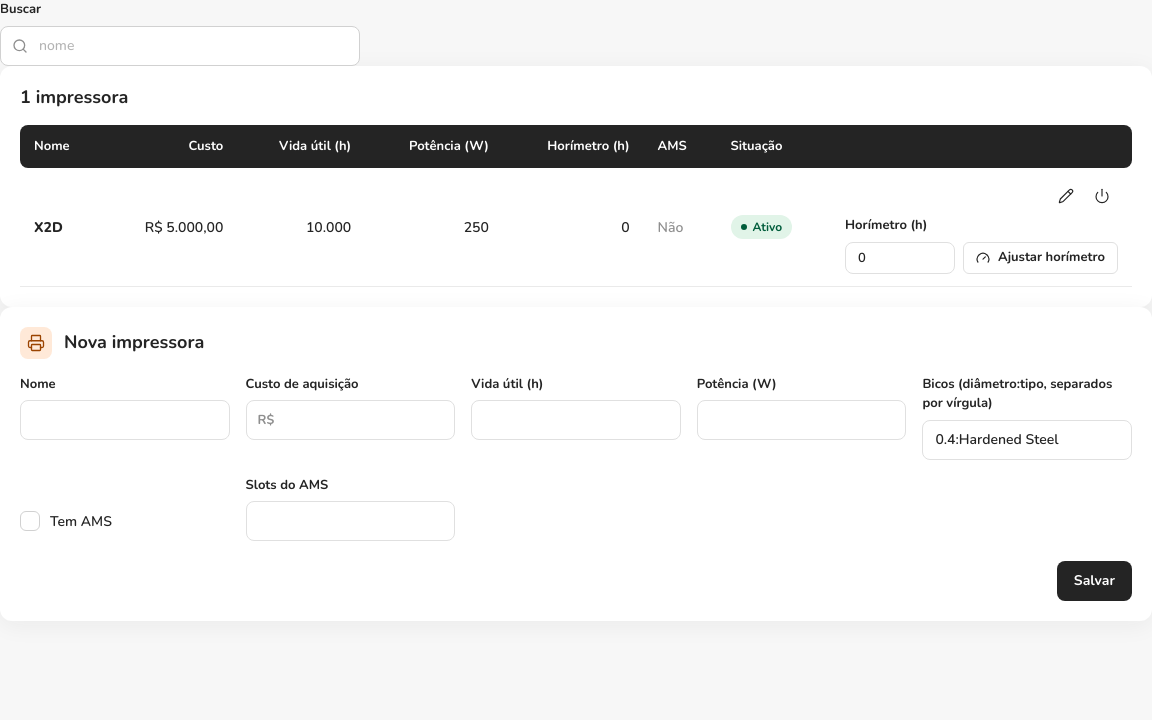
it: Printers page › confirms before deactivating
Click the button named "Desativar".
click(1102, 196)  # box x1=1086 y1=180 x2=1118 y2=212
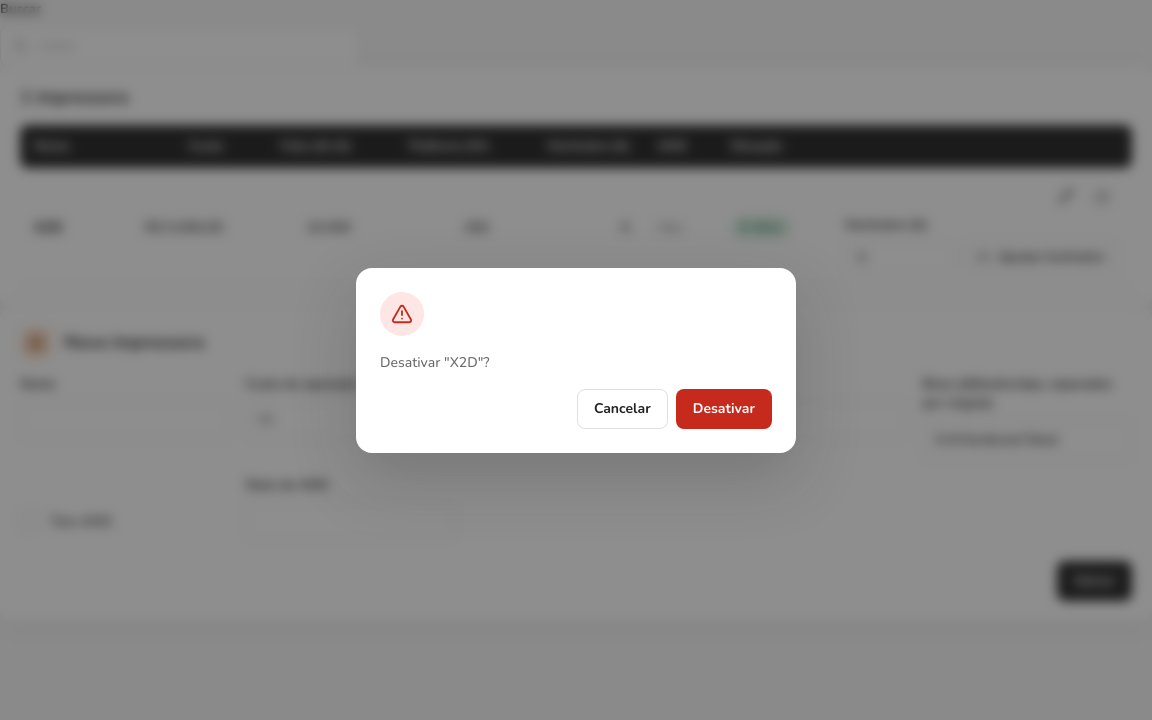
Click the button "Cancelar".
click(622, 408)  # box x1=577 y1=388 x2=668 y2=428
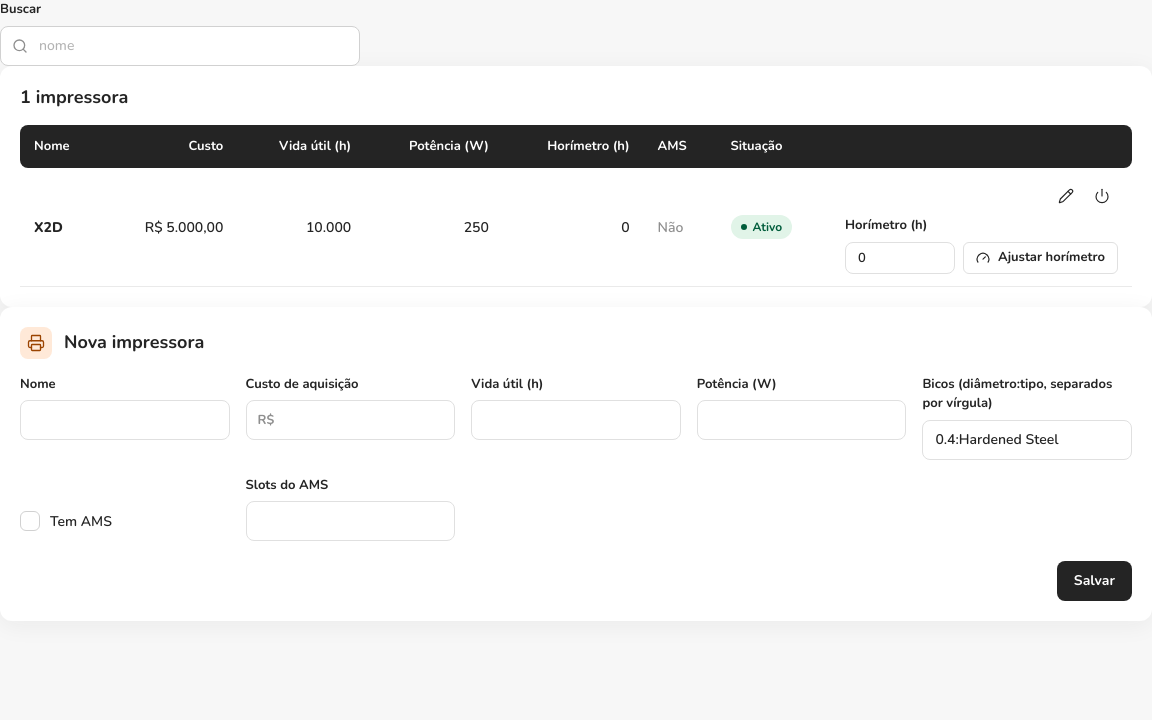
Check: the dialog is gone
Click the button named "Desativar".
click(1102, 196)  # box x1=1086 y1=180 x2=1118 y2=212
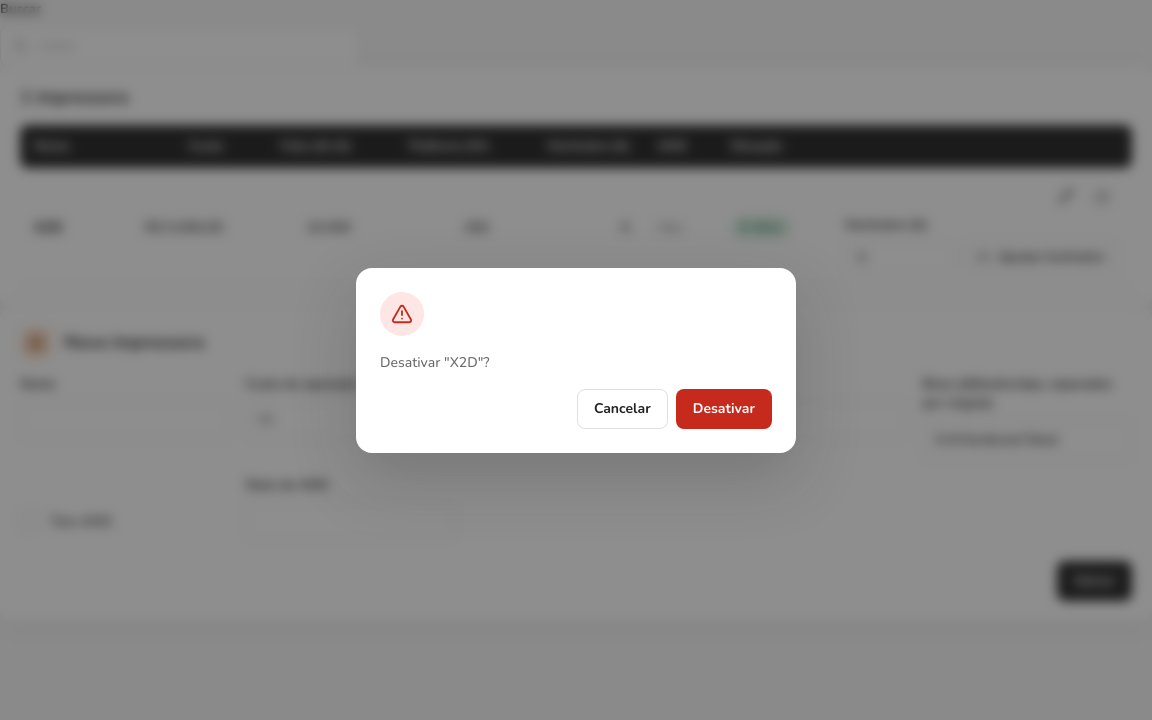
Click the button "Desativar".
click(724, 408)  # box x1=676 y1=388 x2=772 y2=428
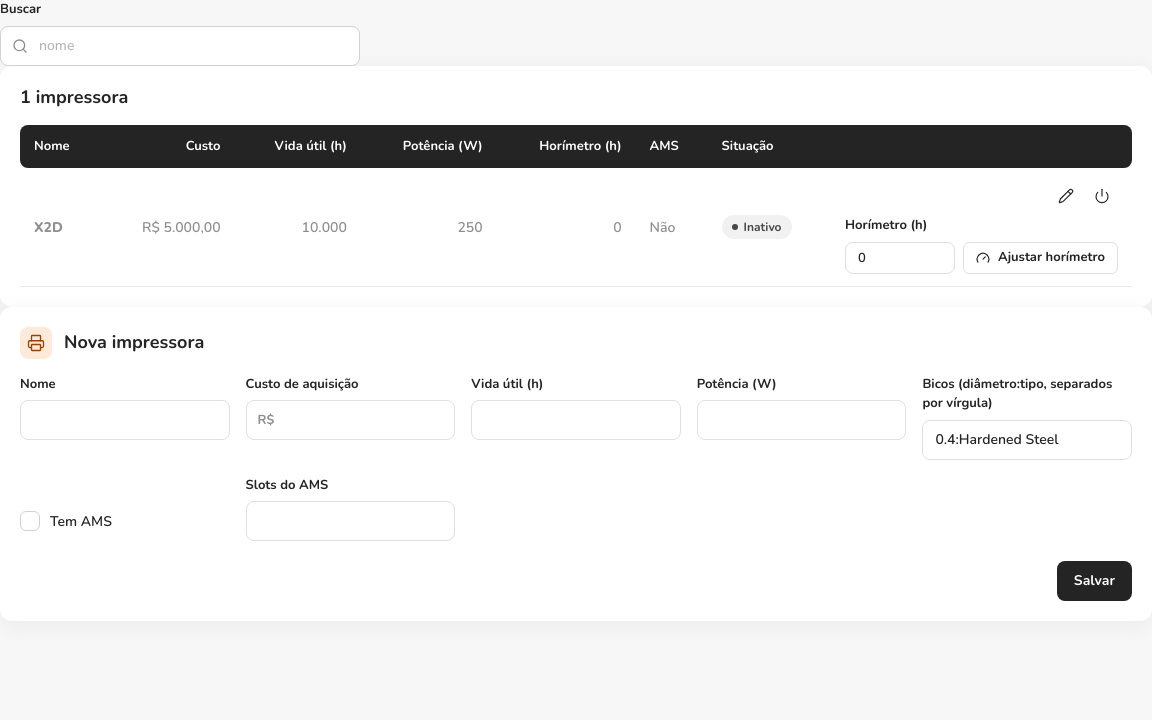
Check: the text "Inativo" is shown, box x1=722 y1=215 x2=792 y2=239
